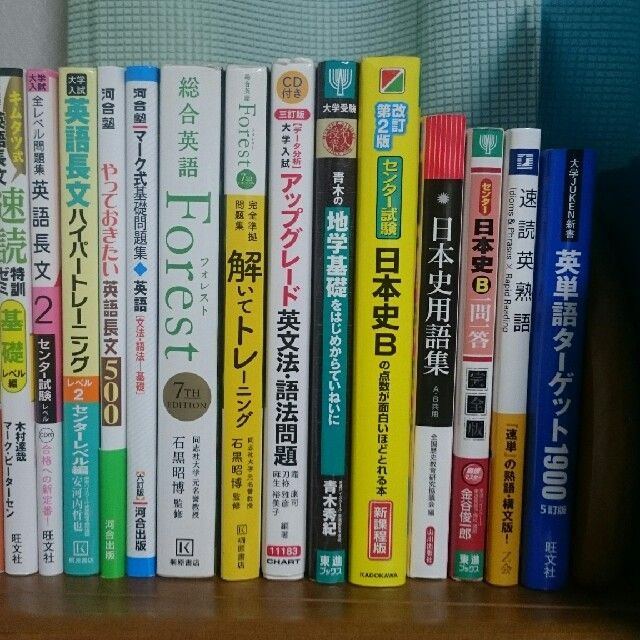book: (352, 52, 422, 589), (155, 62, 222, 579), (259, 57, 318, 580), (218, 58, 270, 583), (56, 65, 101, 580), (310, 58, 354, 584), (122, 60, 160, 580), (25, 64, 62, 575), (94, 62, 129, 580)
